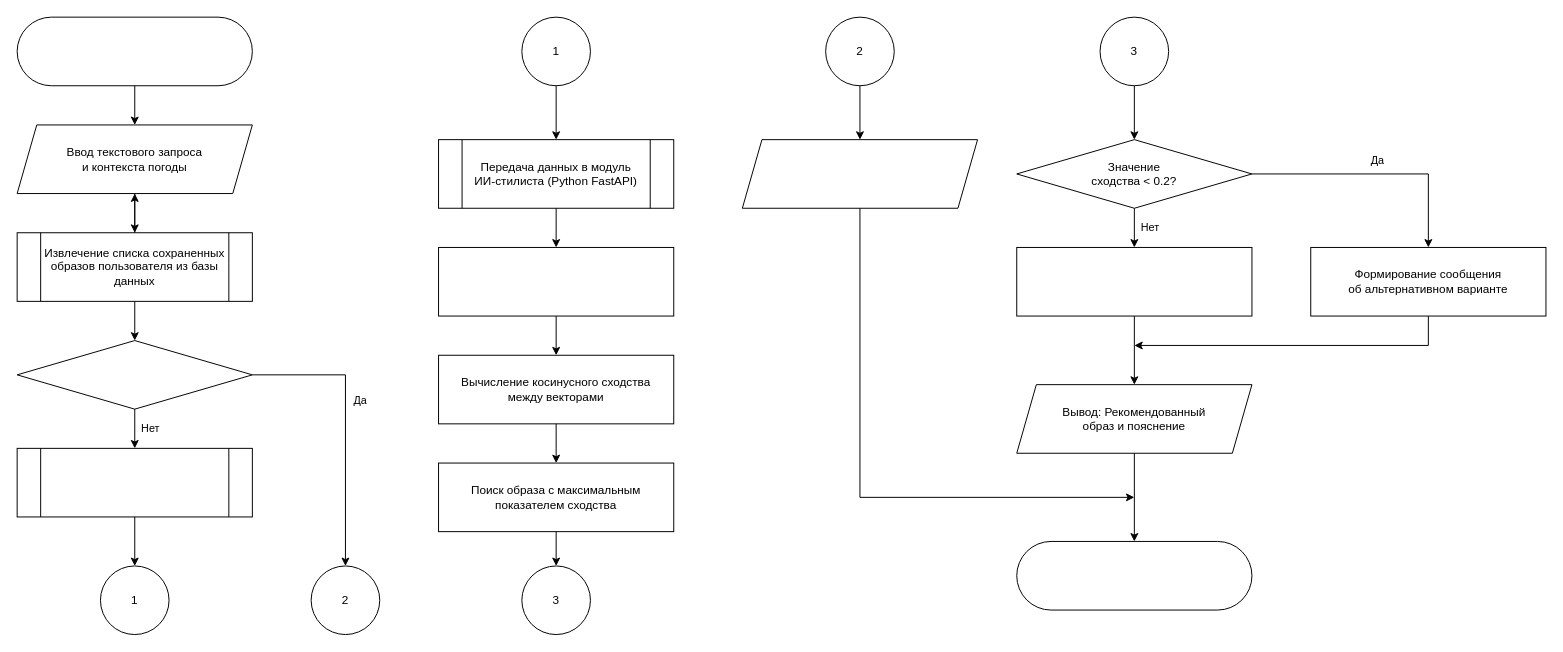
This 1563x652 diagram has some shape labels left out. Each missing label, with the box of its shape:
Векторизация запроса и списка образов (SentenceTransformer): (438, 246, 674, 316)
Вывод: Сообщение об отсутствии образов: (741, 139, 978, 208)
Генерация текстовых описаний для каждого образа (теги, категории): (16, 447, 252, 517)
Конец: (1016, 540, 1252, 610)
Начало: (16, 16, 252, 86)
Список образов пуст?: (16, 340, 252, 409)
Формирование сообщения о наиболее подходящем образе: (1016, 246, 1252, 316)
